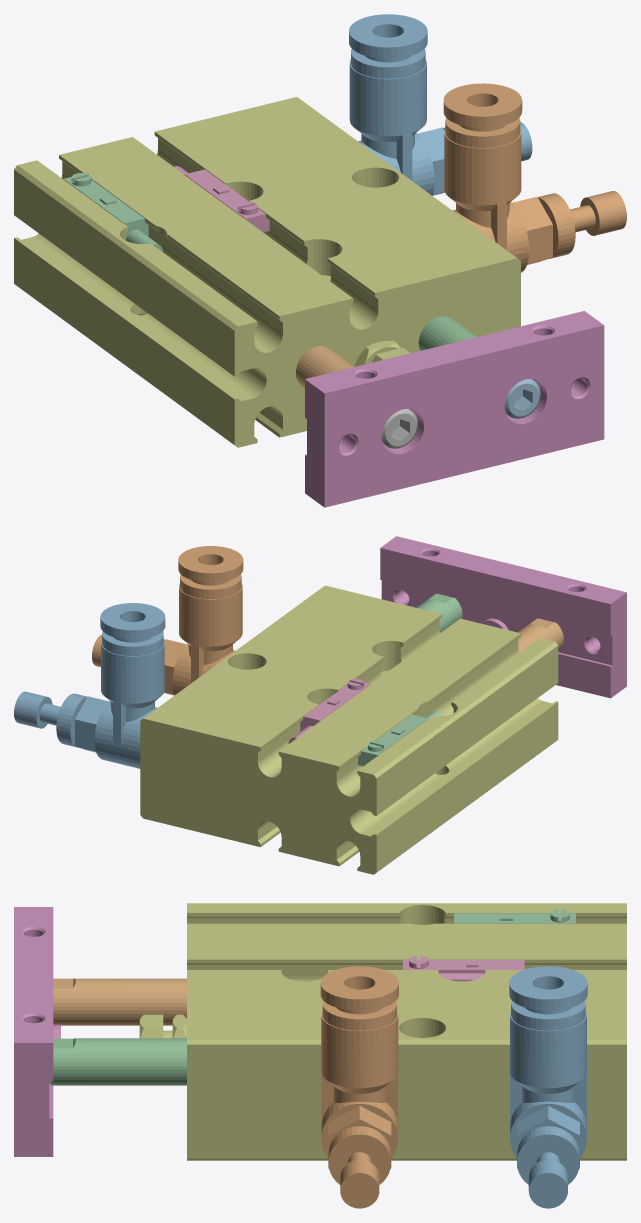
Rendered from case-02_fable52.glb.
The picture shows the model from 3 angles, top to bottom: view 1: azimuth 30°, elevation 25°; view 2: azimuth 150°, elevation 25°; view 3: azimuth 270°, elevation 25°; orthographic projection. The views are drawn at different scales.
Visible parts, largest first — view 1: c00001, c00002, c00009, c00010, c00008, c00007, c00003, c00004, c00005, c00006; view 2: c00001, c00002, c00010, c00009, c00007, c00008, c00003, c00004; view 3: c00001, c00009, c00010, c00002, c00004, c00003, c00007, c00008.
Boxes of the visible parts, box(x1,y1,x2,y2) form: c00001: box(14, 97, 520, 447); c00002: box(305, 311, 604, 507); c00009: box(443, 83, 626, 272); c00010: box(349, 14, 532, 195); c00008: box(63, 173, 162, 251); c00007: box(174, 166, 269, 232); c00003: box(296, 346, 353, 388); c00004: box(418, 316, 476, 350); c00005: box(382, 408, 417, 448); c00006: box(504, 379, 540, 418); c00001: box(140, 585, 558, 874); c00002: box(380, 536, 626, 698); c00010: box(14, 603, 165, 768); c00009: box(92, 546, 243, 695); c00007: box(288, 679, 370, 743); c00008: box(358, 711, 441, 766); c00003: box(518, 618, 563, 652); c00004: box(416, 593, 462, 632); c00001: box(139, 903, 626, 1160); c00009: box(320, 966, 398, 1208); c00010: box(509, 966, 587, 1208); c00002: box(14, 907, 60, 1156); c00004: box(49, 1038, 186, 1085); c00003: box(53, 978, 186, 1025); c00007: box(403, 956, 524, 981); c00008: box(454, 909, 575, 923).
Bounding box in the file's own units: 68.8 × 28.5 × 78.
